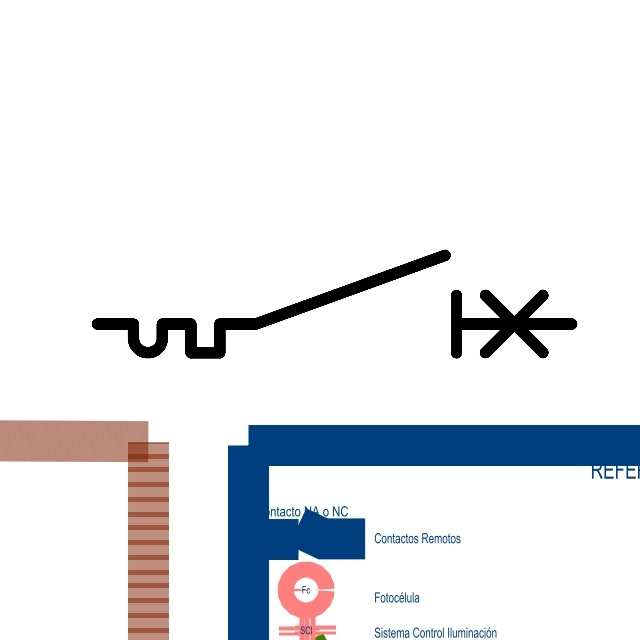interruptor_termomagnetico: (85, 243, 583, 365)
